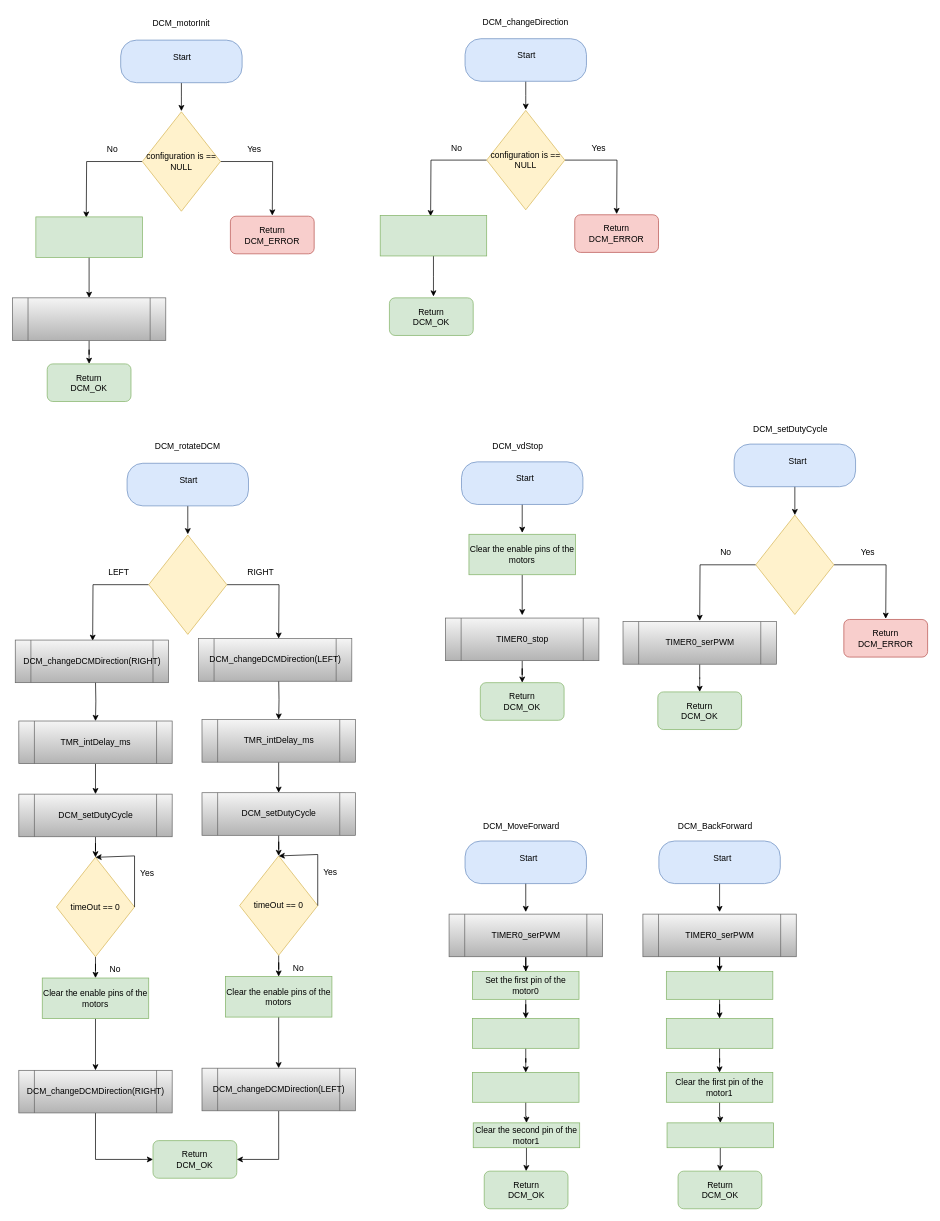
The diagram is 940 pixels wide and 1221 high, and some of its shapes have lost their labels. The centre of each missing label's shape, as x and y in pixels:
Clear the first pin of the motor0: pixel 719 985
Clear the second pin of the motor0: pixel 525 1033
DutyCycle > MAX_DUTY_CYCLE: pixel 794 564
Loop on the configuration and initalize the four pins as output: pixel 88 236
Motor_Side: pixel 187 584
Set the first pin of the motor1: pixel 525 1087
Set the second pin of the motor0: pixel 719 1033
Set the second pin of the motor1: pixel 720 1135
TIMER0_initPWM: pixel 89 318
Toggle the enable pin of the passed motor: pixel 433 235
